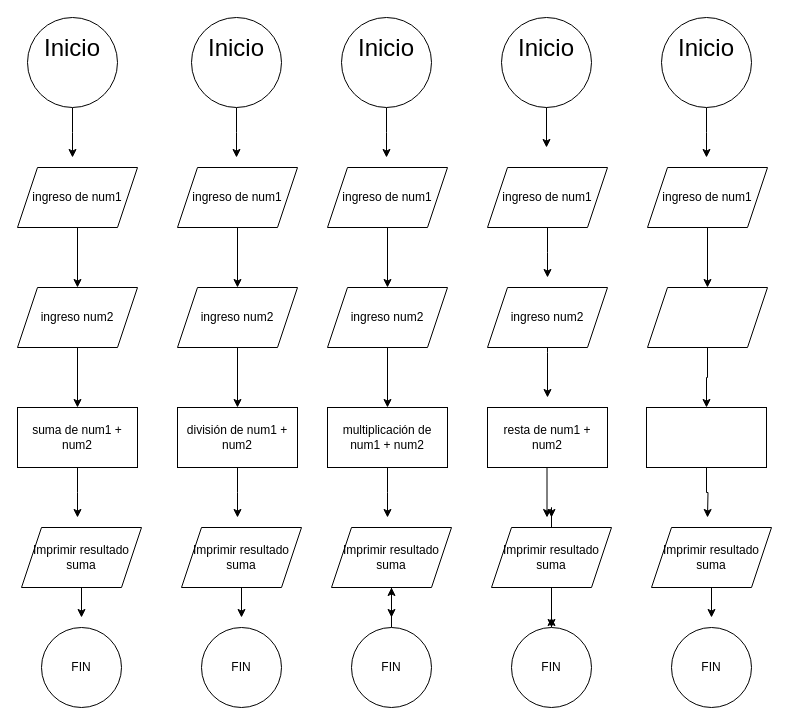
The diagram is 789 pixels wide and 725 high, and some of its shapes have lost their labels. The shapes that lost their labels are listed below. From the top down, each one's centre as x and y in pixels, then its label:
the point at 707,317: ingreo num2
the point at 706,437: calcular el modulo entre num1 y num2
